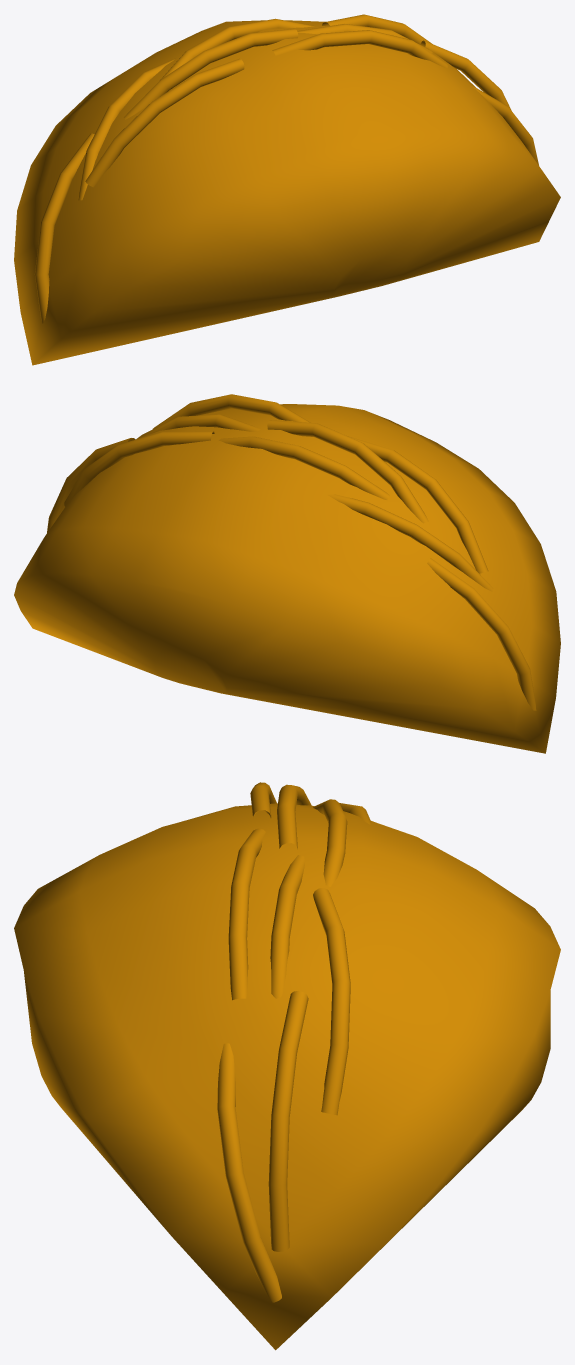
Rendered from karipap.fbx.
The picture shows the model from 3 angles, top to bottom: view 1: azimuth 30°, elevation 25°; view 2: azimuth 150°, elevation 25°; view 3: azimuth 270°, elevation 25°; orthographic projection. The views are drawn at different scales.
Visible parts, largest first — view 1: Torus; view 2: Torus; view 3: Torus.
Boxes of the visible parts, bbox=[...] form: Torus: bbox=[14, 14, 560, 365]; Torus: bbox=[14, 394, 560, 753]; Torus: bbox=[14, 782, 560, 1350].
Bounding box in the file's own units: 168 × 86.84 × 119.
